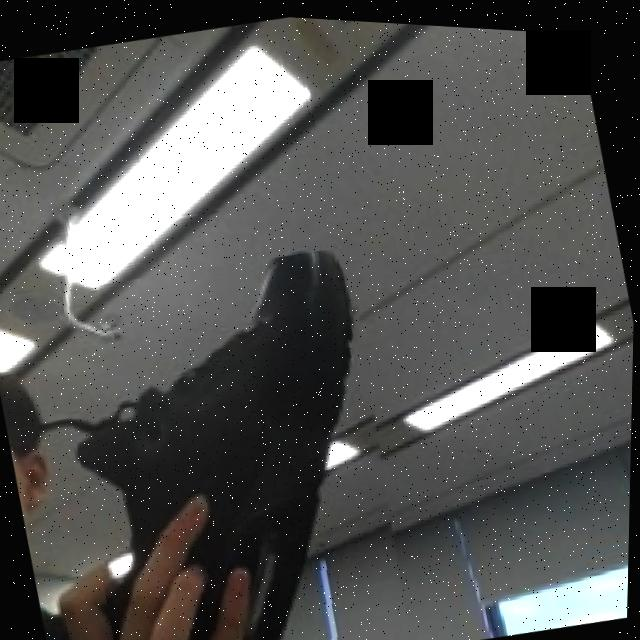shoe: (43, 228, 433, 640)
